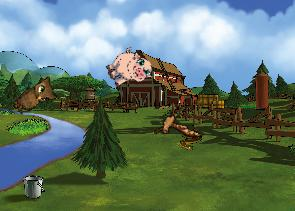eagle: (149, 103, 202, 148)
owl: (10, 72, 63, 124)
pig: (101, 42, 156, 96)
